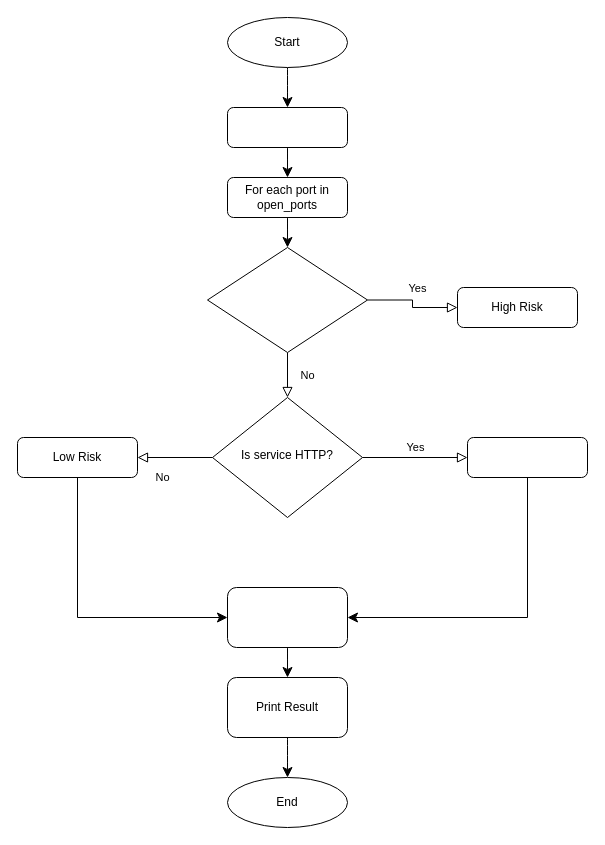
Image size: 605x845. Some labels were removed from this diagram. Each missing label, with the centre of its shape:
"Build risk_ports using list comprehension" goes at (287,617).
"Get open_ports list" goes at (287,127).
"Is service FTP or Telnet?" goes at (287,299).
"Medium Risk" goes at (527,457).
